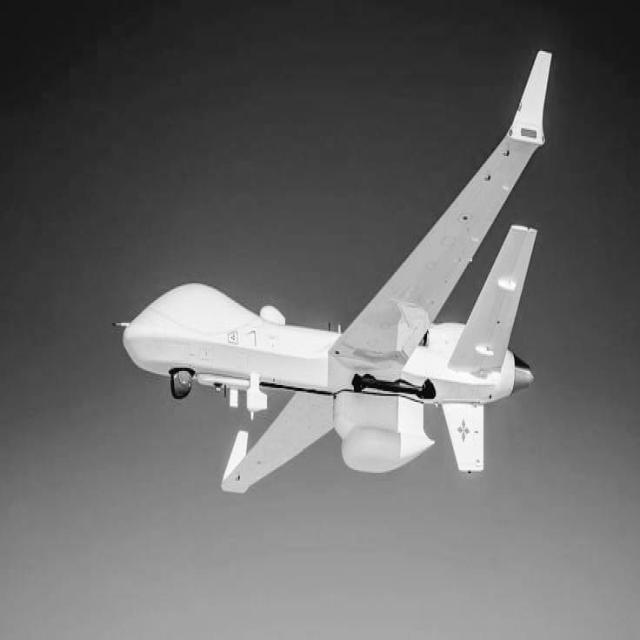iha: (56, 44, 550, 492)
